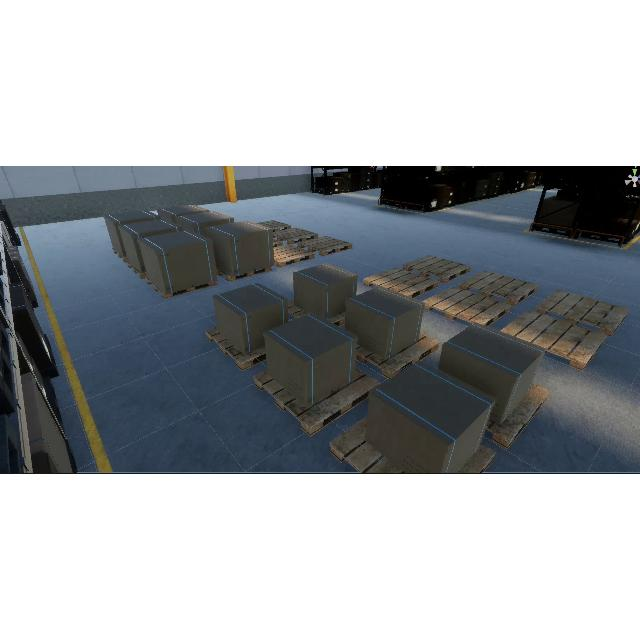wooden_pallet: (251, 365, 380, 441), (499, 310, 608, 370), (535, 287, 630, 337), (485, 383, 551, 448), (329, 414, 401, 473), (354, 331, 439, 379), (421, 286, 510, 327), (204, 325, 269, 372), (459, 270, 538, 306), (363, 266, 438, 299), (402, 253, 472, 282), (145, 277, 218, 299), (456, 441, 497, 473), (298, 235, 353, 256), (273, 244, 315, 268), (216, 266, 272, 282), (272, 227, 319, 244), (255, 220, 292, 232)
